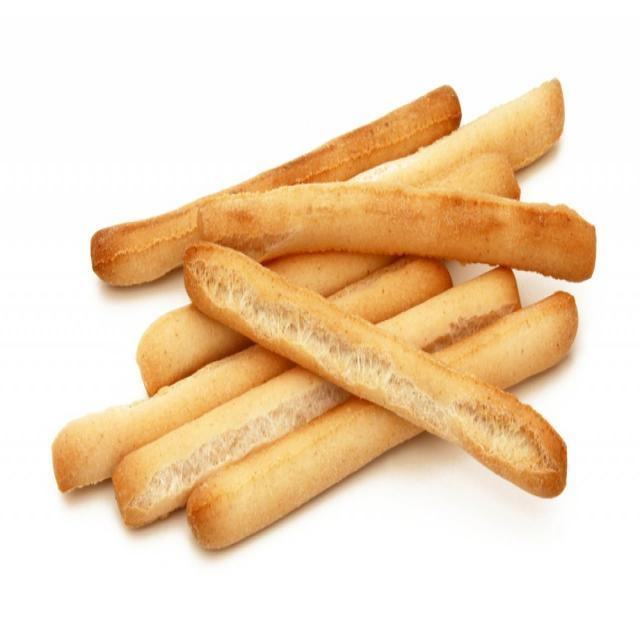Grissini: (52, 93, 598, 565)
